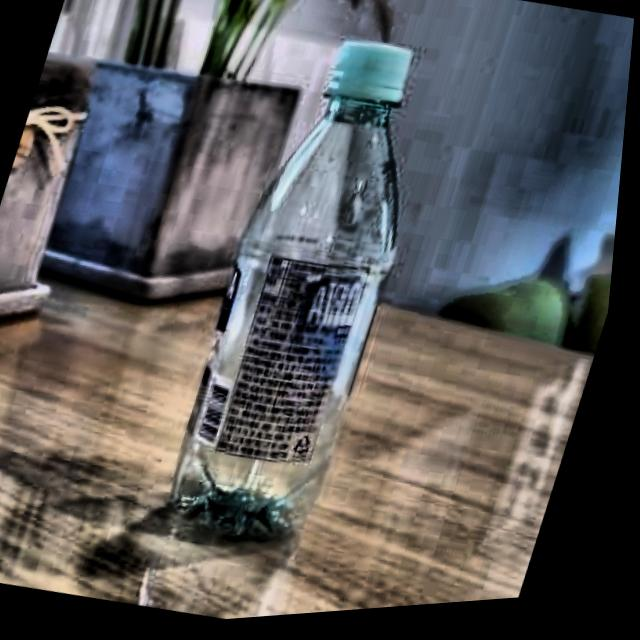Bottles: (144, 10, 480, 579)
